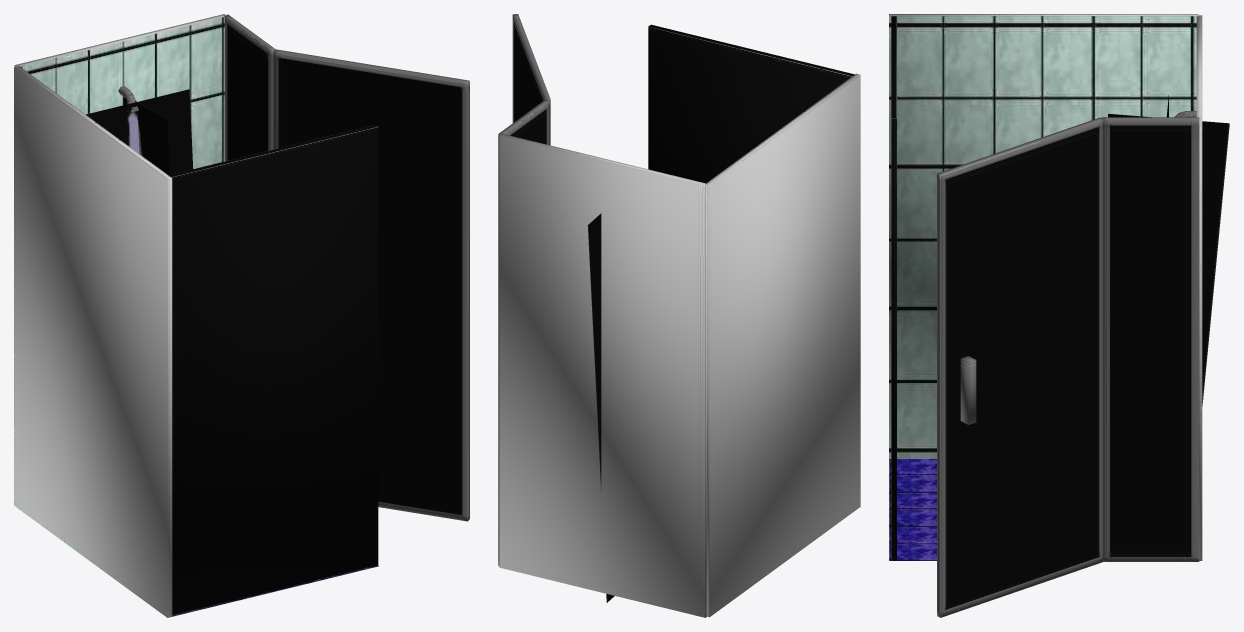
3 renders of one model, left to right at view 1: azimuth 30°, elevation 25°; view 2: azimuth 150°, elevation 25°; view 3: azimuth 270°, elevation 25°, orthographic. The views are drawn at different scales.
Size of the model in its own units: 1.51 by 2 by 1.35.
1 material, 1 textured.
